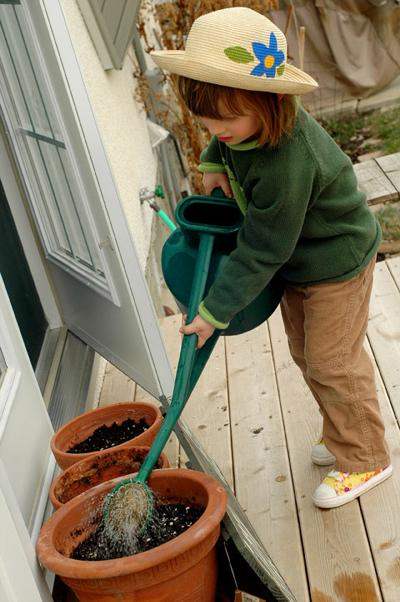person: (173, 5, 393, 518)
